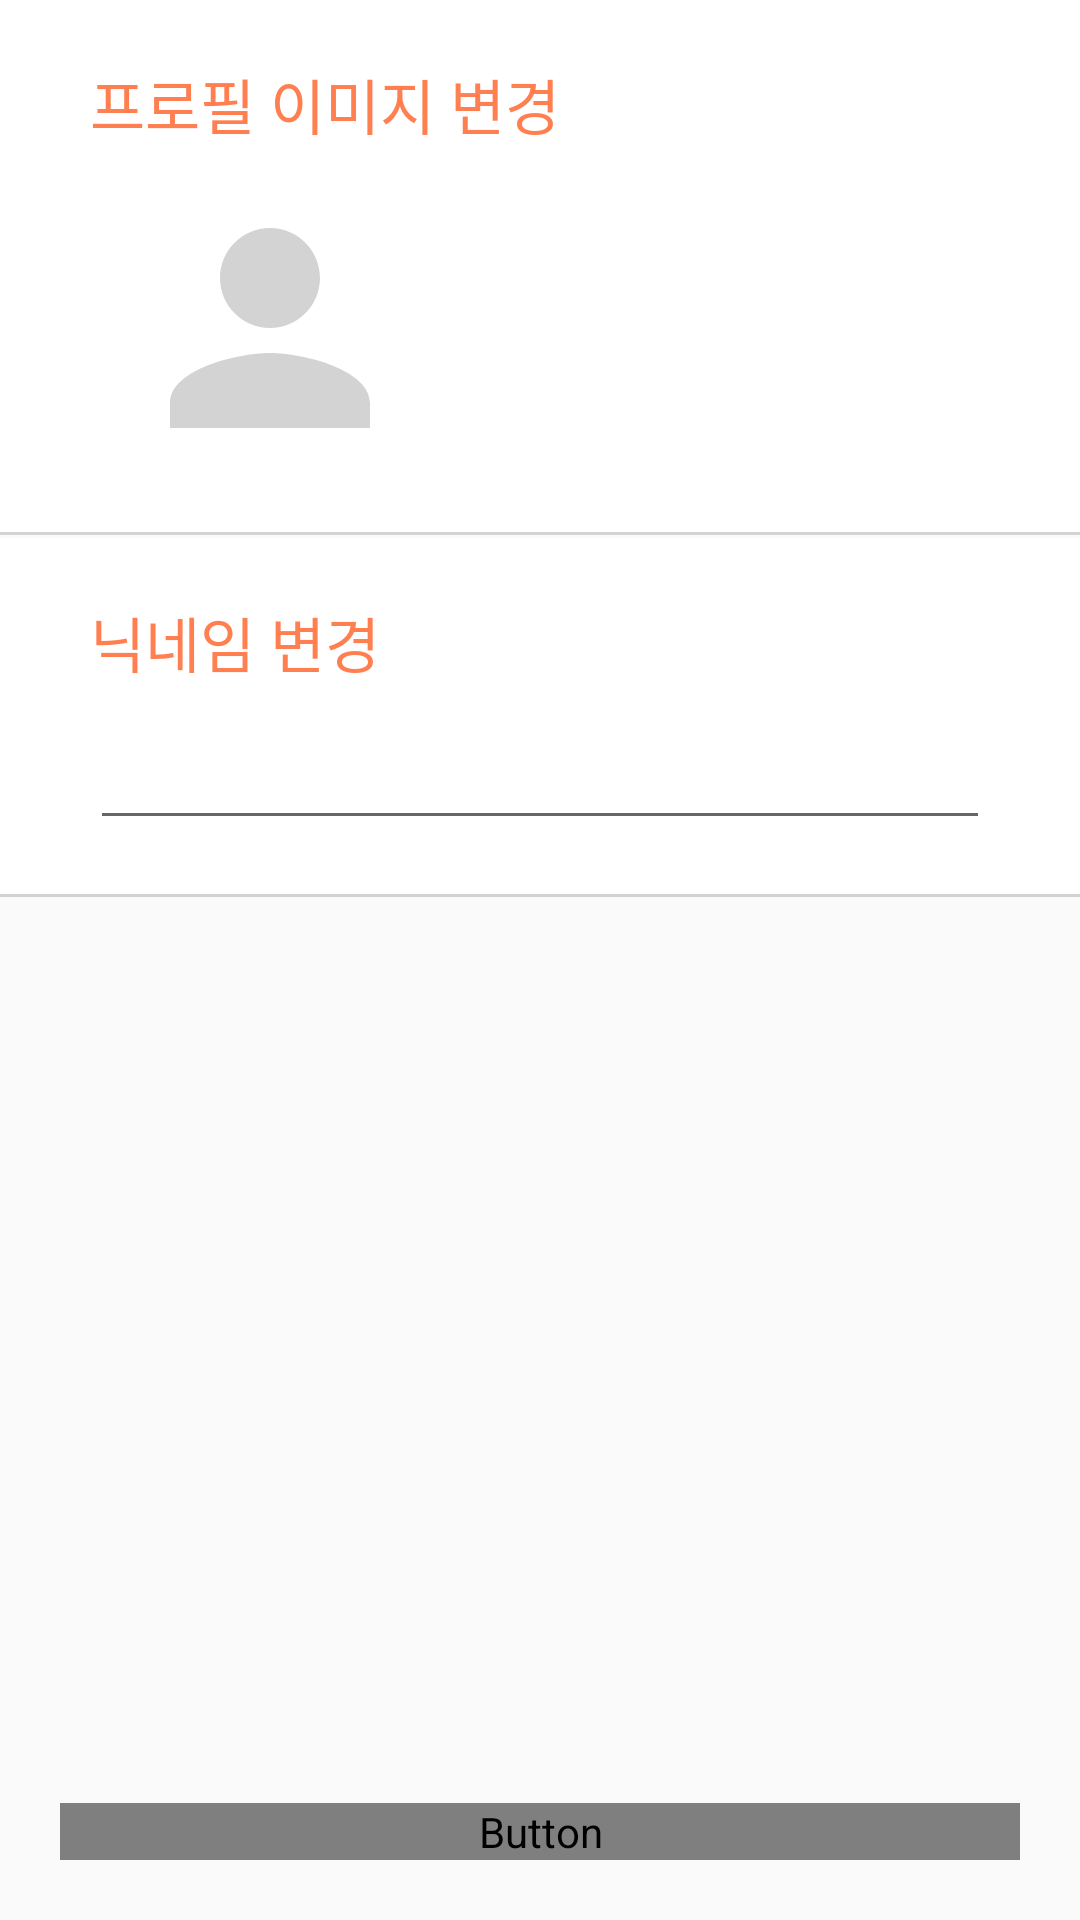

Named icons in this screenshot (1080 × 1920) and their bounding boxes, (x1, y1, x2, y2):
person: (170, 228, 370, 428)
